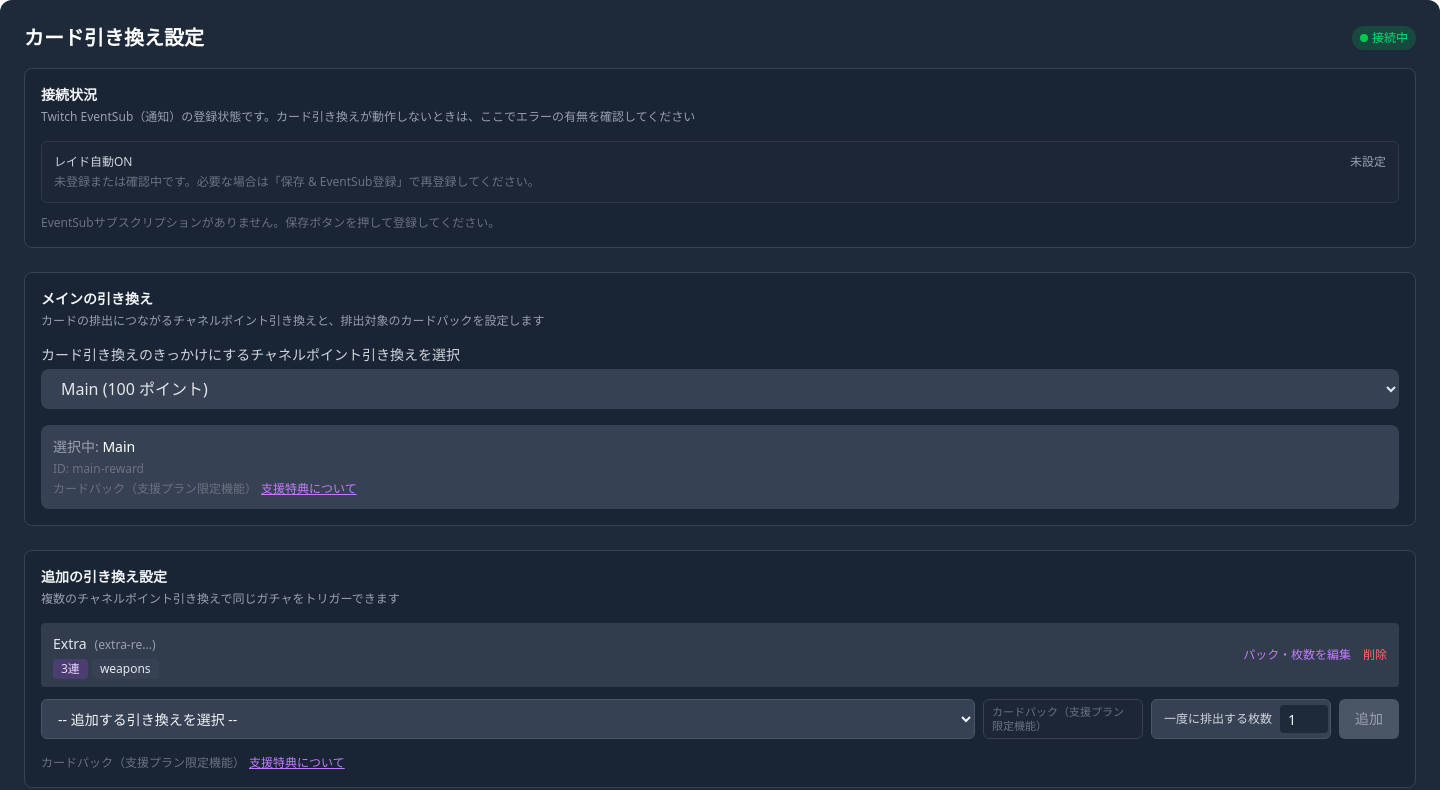
Test case: ChannelPointSettings additional-reward editing › disables the pack select in edit mode when canManage=false with an existing binding
The width and height of the screenshot is (1440, 790).
Step 1. Click the button with aria-label "のパック・枚数を編集" → (1297,655), box [1243,647,1351,663]
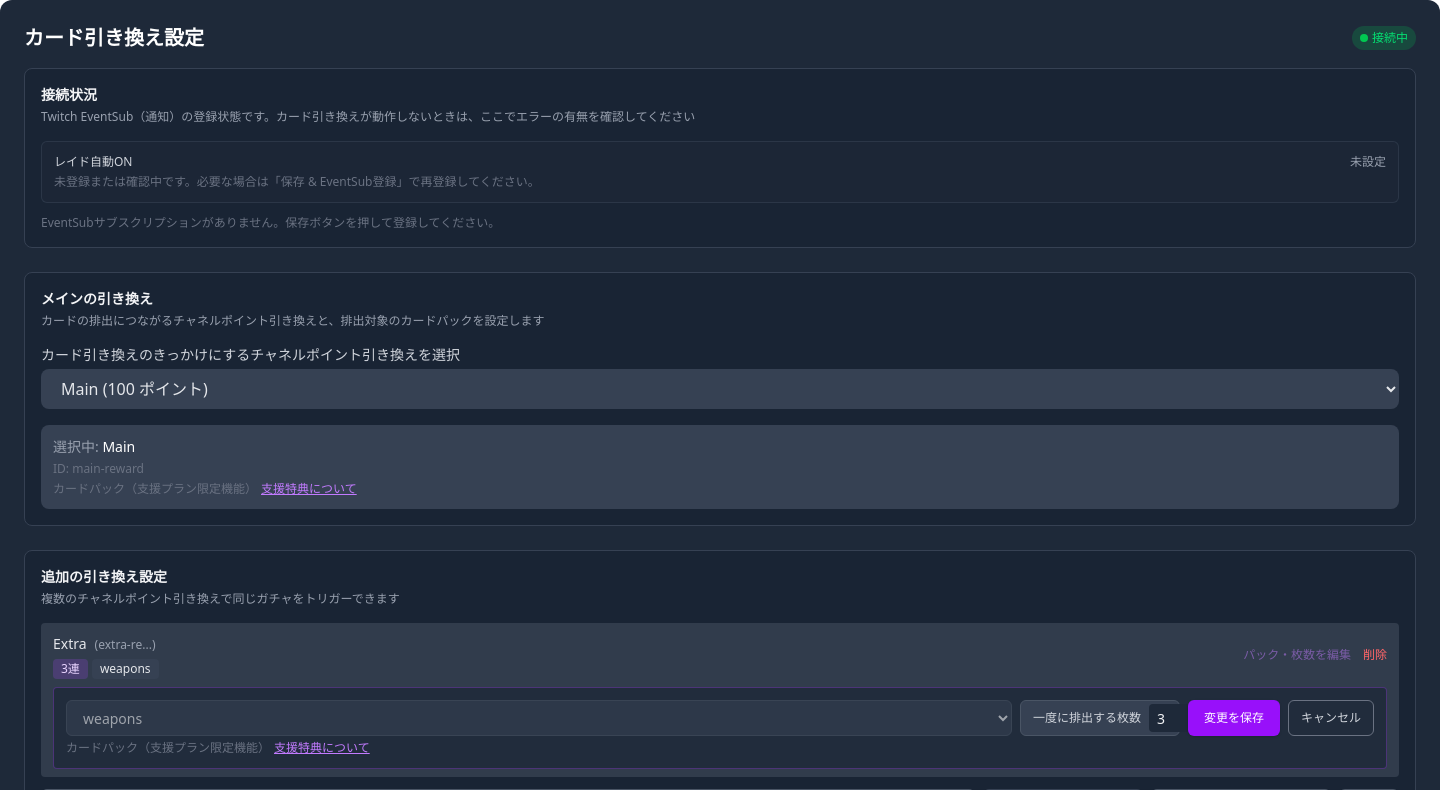
Result: the dropdown named "編集する引き換えのカードパック" is disabled at [66,700,1012,736]
Result: the dropdown named "編集する引き換えのカードパック" shows "weapons" at [66,700,1012,736]
Result: the number field named "一度に排出する枚数（編集）" is shown at [1149,704,1197,732]
